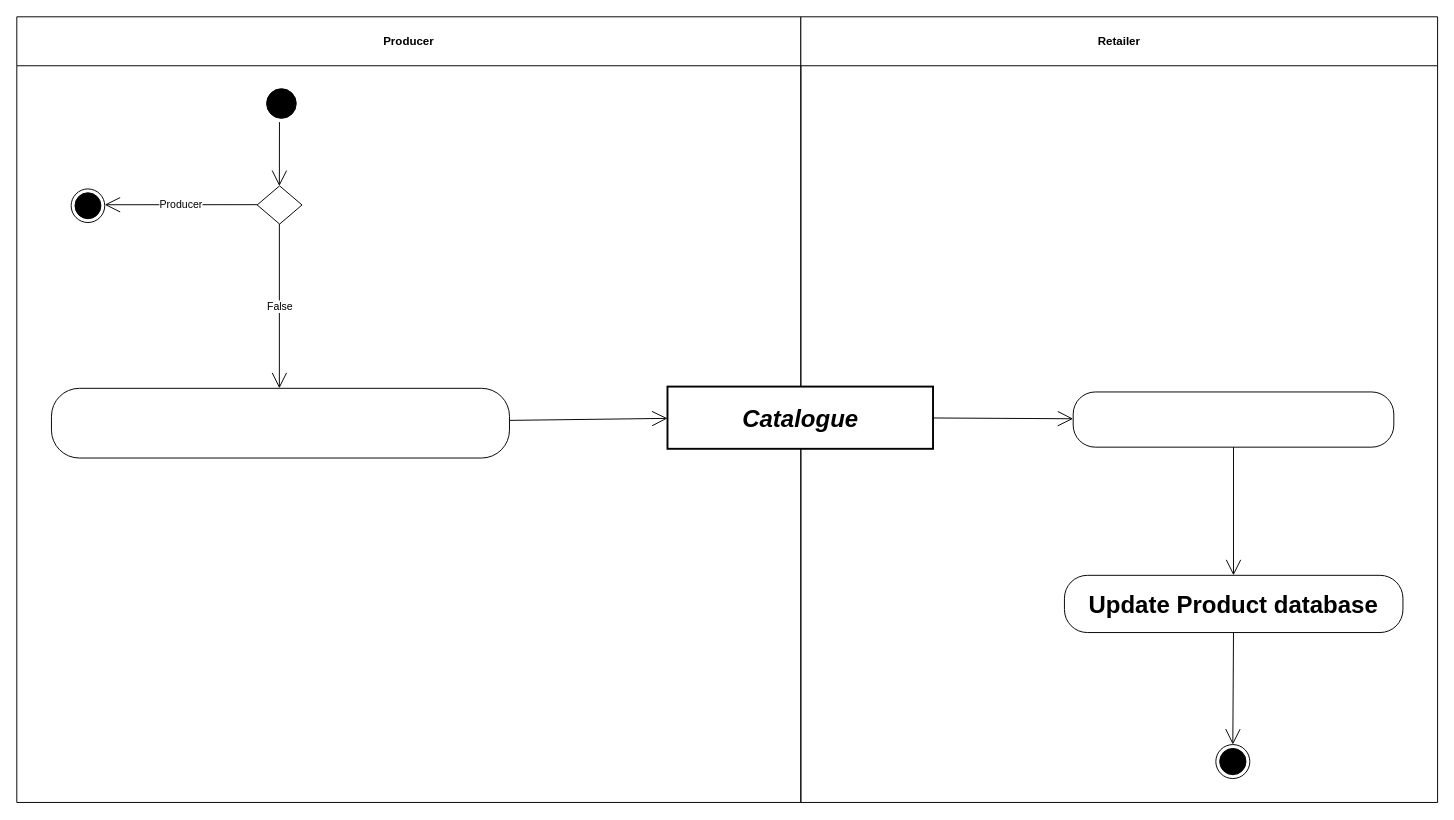
Image size: 1454x820. Some labels were removed from this diagram. The shapes that lost their labels are listed below. From the top down, each one's centre as x and y in pixels, then its label:
point (279, 422): Inform about changes inside the catalogue
point (1233, 419): Receive information
